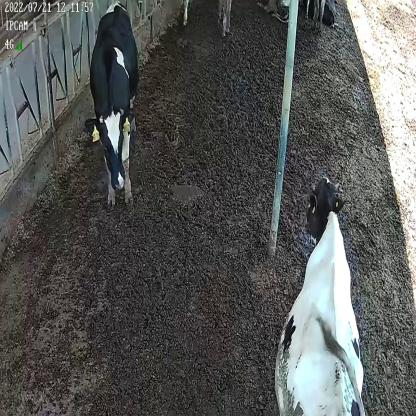cow: (273, 176, 366, 415), (82, 1, 140, 209)
